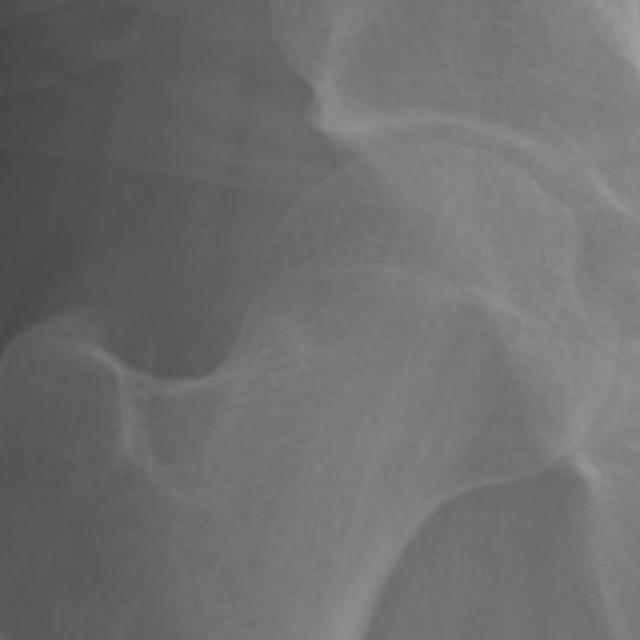Fitted_femural_head: (369, 143, 432, 369)
